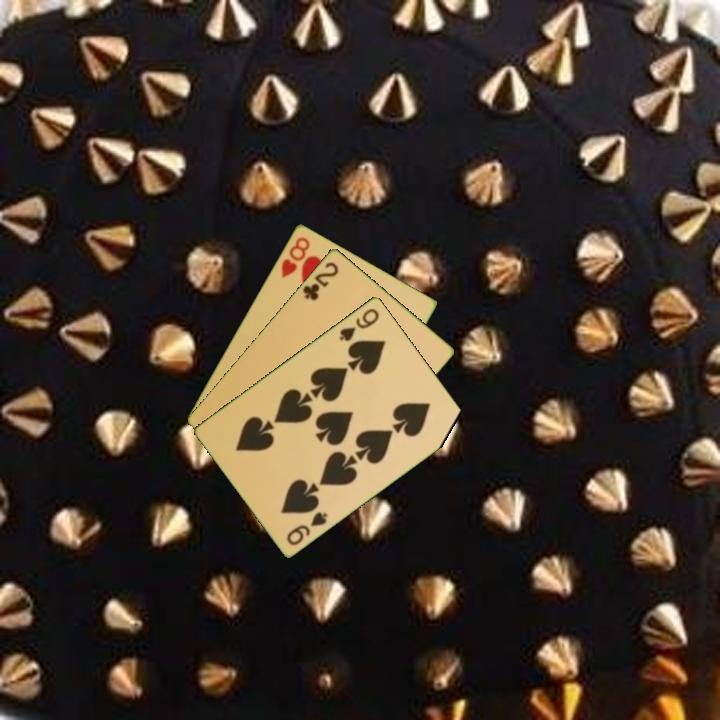2c: (299, 258, 341, 303)
8h: (277, 233, 313, 281)
9s: (283, 508, 331, 548), (336, 304, 382, 344)
